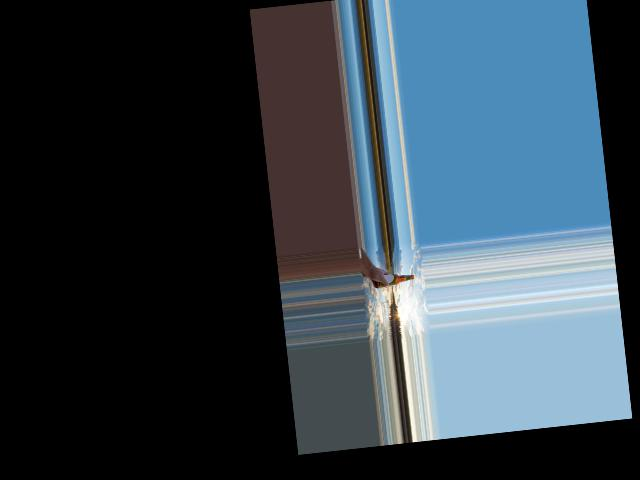beer: (374, 271, 415, 289)
